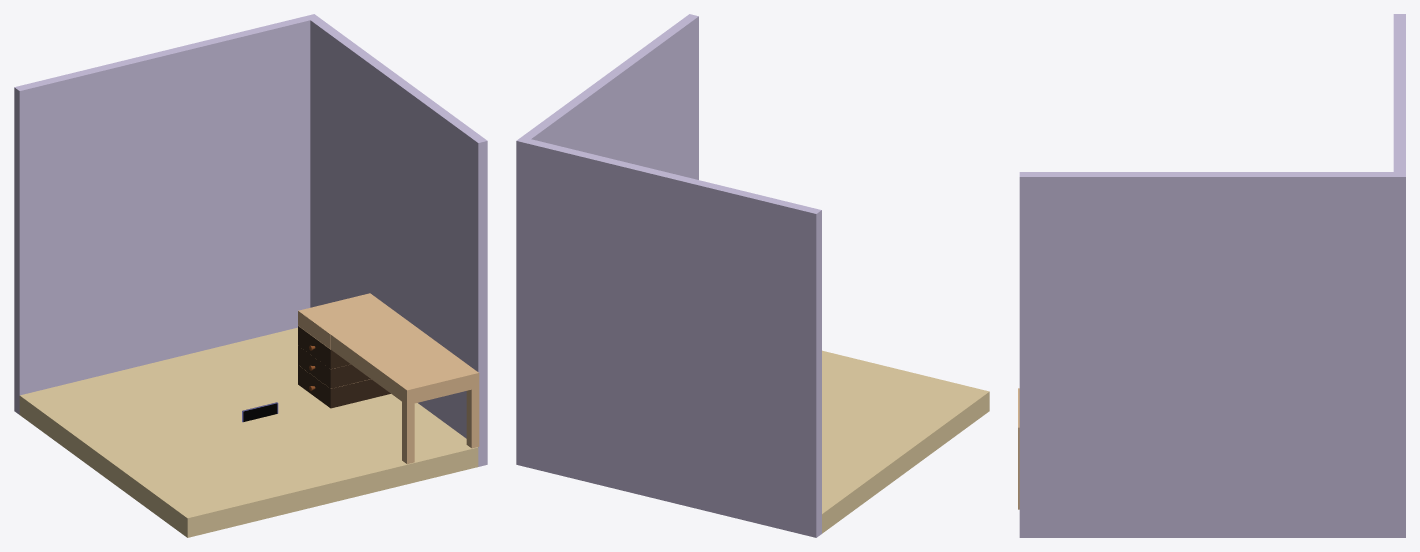
3 renders of one model, left to right at view 1: azimuth 30°, elevation 25°; view 2: azimuth 150°, elevation 25°; view 3: azimuth 270°, elevation 25°, orthographic. The views are drawn at different scales.
Visible parts, largest first — view 1: Cube, desk_object; view 2: Cube; view 3: Cube.
Boxes of the visible parts, x1,y1,x2,y2 form: Cube: [14, 14, 487, 537]; desk_object: [298, 293, 479, 464]; Cube: [516, 14, 989, 537]; Cube: [1019, 14, 1405, 537].
Bounding box in the file's own units: 32 × 33.42 × 32.13.
8 materials, 1 textured.
